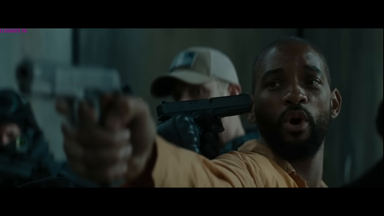firearm: (14, 57, 127, 127), (155, 91, 253, 145)
